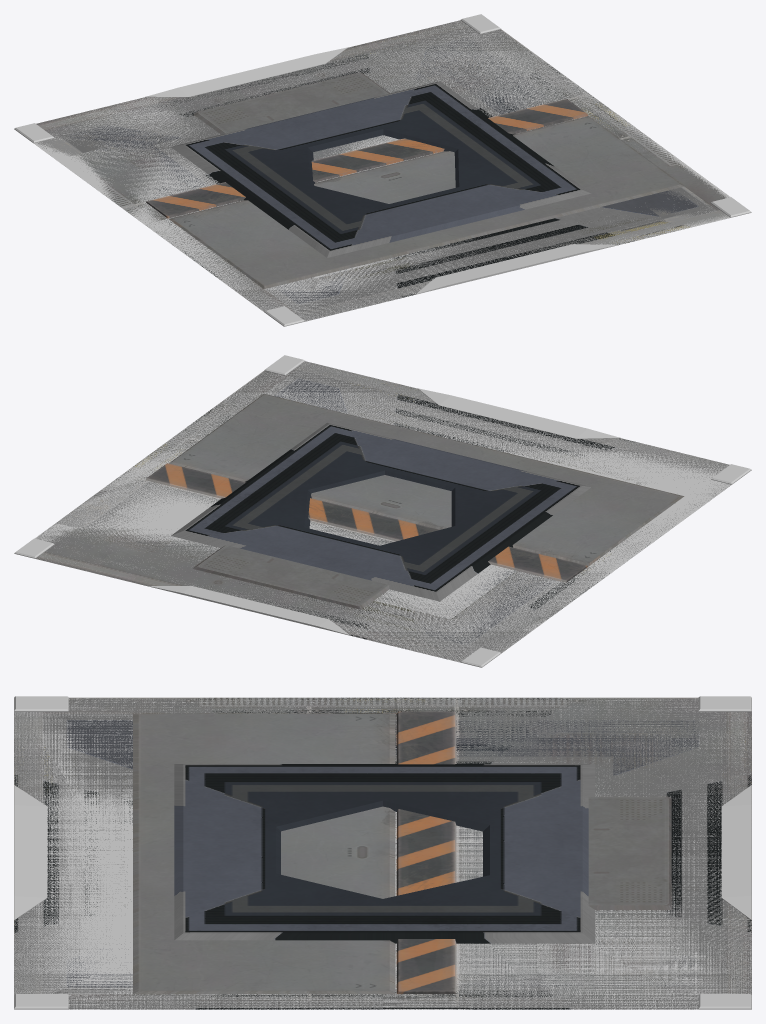
The model's file is Floors_01.fbx.
The picture shows the model from 3 angles, top to bottom: view 1: azimuth 30°, elevation 25°; view 2: azimuth 150°, elevation 25°; view 3: azimuth 270°, elevation 25°; orthographic projection. The views are drawn at different scales.
Parts seen in each view (by area): view 1: Floor_Panels_02, Floor_Container_01, Floor_Panels_01_A, Floor_Panels_01_B, Floor_Container_02; view 2: Floor_Panels_02, Floor_Container_01, Floor_Panels_01_A, Floor_Panels_01_B, Floor_Container_02; view 3: Floor_Panels_02, Floor_Container_01, Floor_Panels_01_A, Floor_Panels_01_B, Floor_Container_02.
Part boxes in pixels (<box>): Floor_Panels_02: <box>26,20,748,323</box>; Floor_Container_01: <box>50,20,717,321</box>; Floor_Panels_01_A: <box>46,21,710,320</box>; Floor_Panels_01_B: <box>14,14,751,326</box>; Floor_Container_02: <box>21,21,715,320</box>; Floor_Panels_02: <box>17,361,729,662</box>; Floor_Container_01: <box>36,361,730,662</box>; Floor_Panels_01_A: <box>35,362,729,661</box>; Floor_Panels_01_B: <box>14,355,751,667</box>; Floor_Container_02: <box>44,362,751,664</box>; Floor_Panels_02: <box>14,697,751,1009</box>; Floor_Container_01: <box>14,698,751,1009</box>; Floor_Panels_01_A: <box>14,698,751,1009</box>; Floor_Panels_01_B: <box>14,696,751,1009</box>; Floor_Container_02: <box>14,697,751,1001</box>.
Bounding box in the file's own units: 400 × 5.58 × 400.
